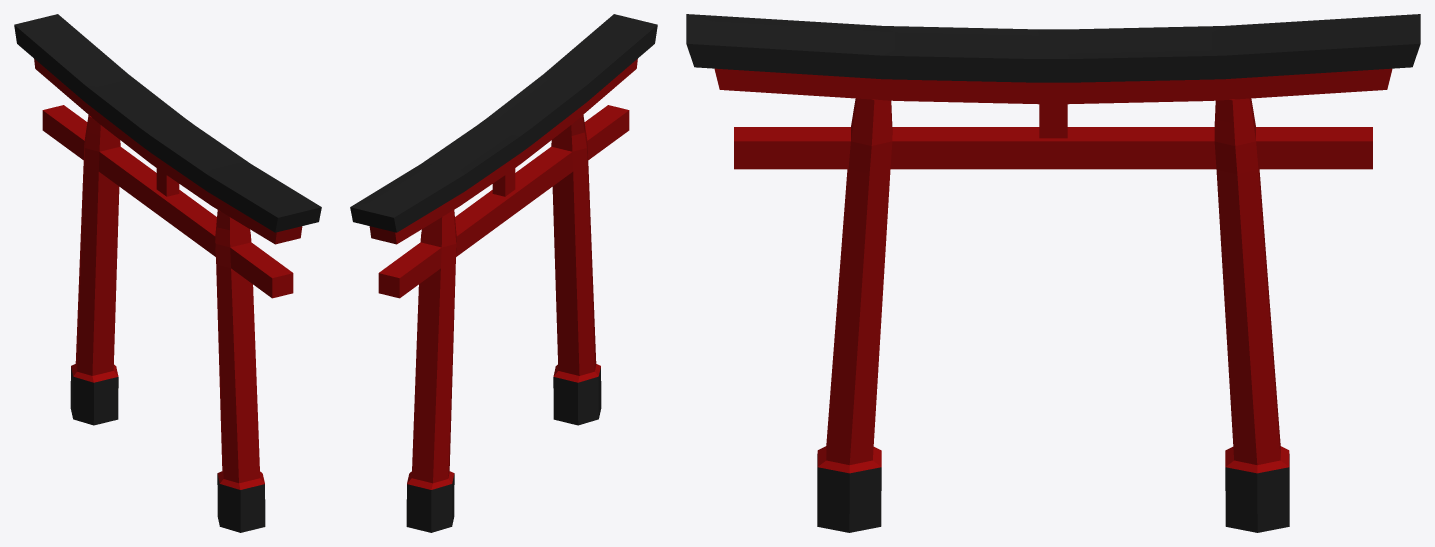
Rendered from Shrine_Gate_1.fbx.
The picture shows the model from 3 angles, left to right: view 1: azimuth 30°, elevation 25°; view 2: azimuth 150°, elevation 25°; view 3: azimuth 270°, elevation 25°; orthographic projection. The views are drawn at different scales.
Parts seen in each view (by area): view 1: Shire_Gate_1; view 2: Shire_Gate_1; view 3: Shire_Gate_1.
Boxes of the visible parts, x1,y1,x2,y2 form: Shire_Gate_1: (14, 14, 321, 532); Shire_Gate_1: (350, 14, 657, 532); Shire_Gate_1: (686, 14, 1420, 532).
Size of the model in its own units: 32.05 by 246 by 334.
